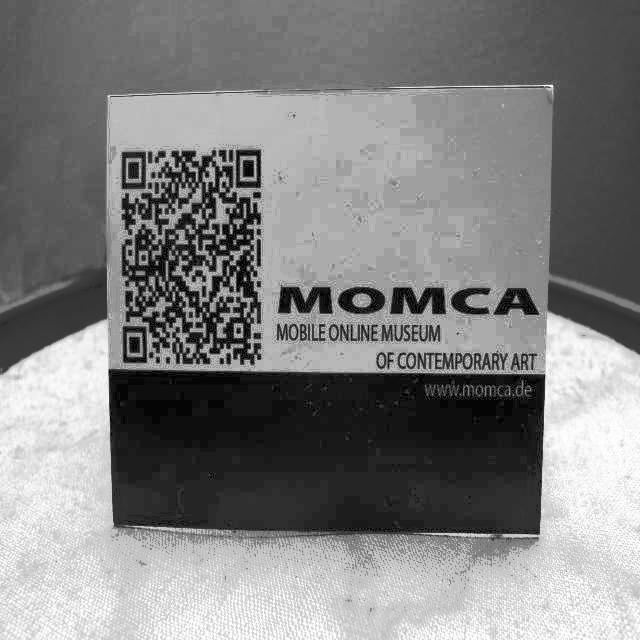qr_code: (122, 150, 261, 365)
